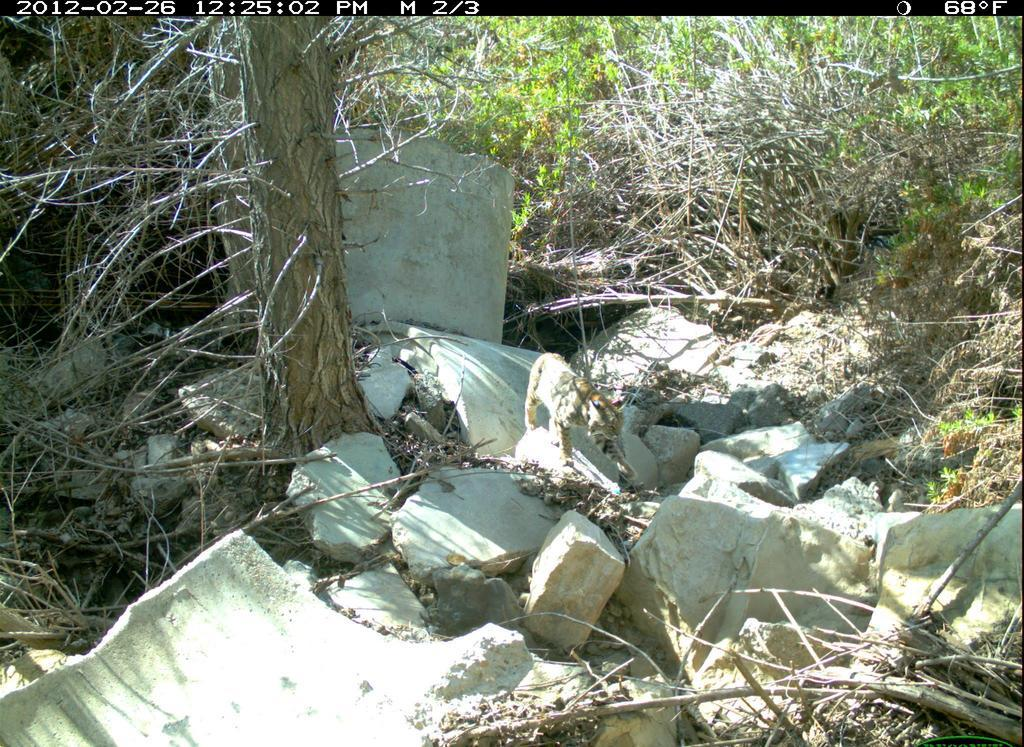bobcat: (523, 345, 643, 489)
